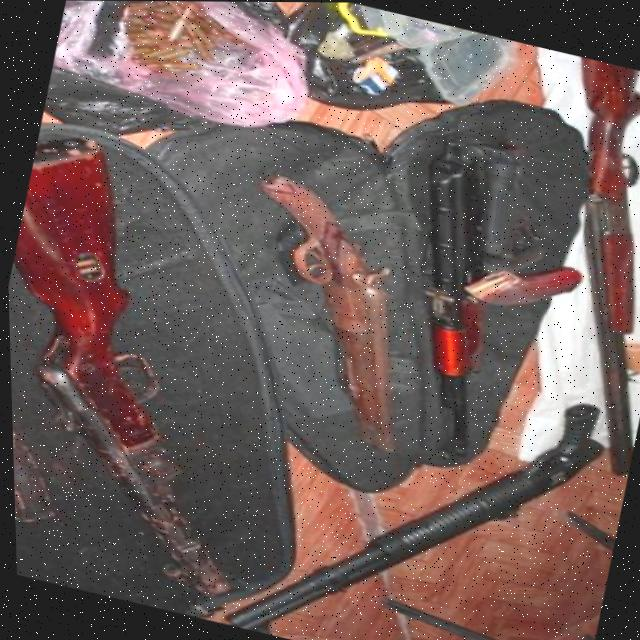firearm: (3, 125, 320, 598), (208, 328, 616, 640), (354, 121, 551, 467), (209, 171, 447, 455), (486, 54, 640, 478)
